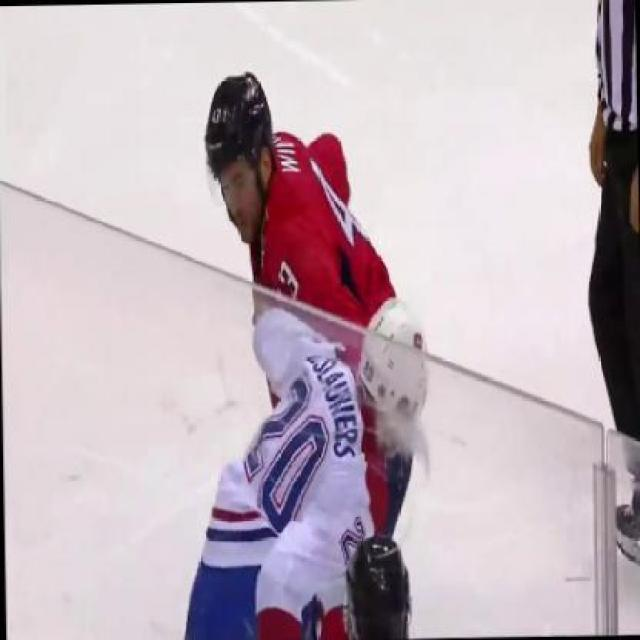fight: (174, 70, 437, 638)
